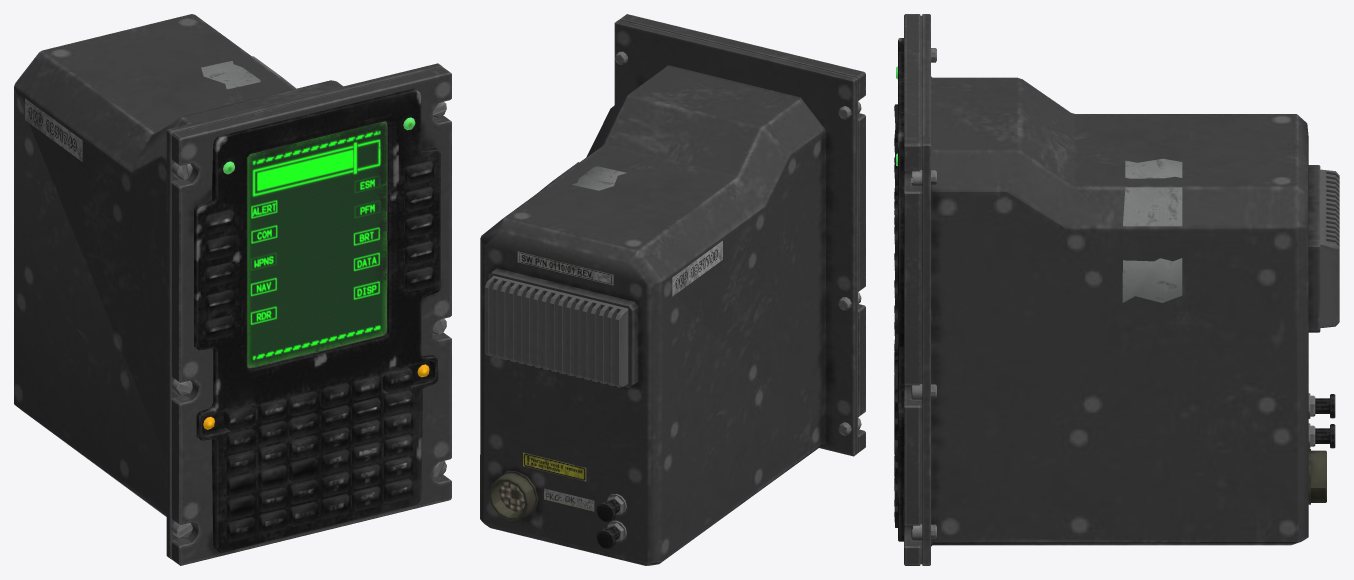
File: mfd.glb
3 renders of one model, left to right at view 1: azimuth 30°, elevation 25°; view 2: azimuth 150°, elevation 25°; view 3: azimuth 270°, elevation 25°, orthographic. The views are drawn at different scales.
Visible parts, largest first — view 1: m; view 2: m; view 3: m.
Part boxes in pixels (bbox=[...]): m: bbox=[14, 14, 451, 565]; m: bbox=[480, 14, 865, 565]; m: bbox=[894, 14, 1339, 565].
Bounding box in the file's own units: 0.227 × 0.34 × 0.3254.
2 materials, 2 textured.
